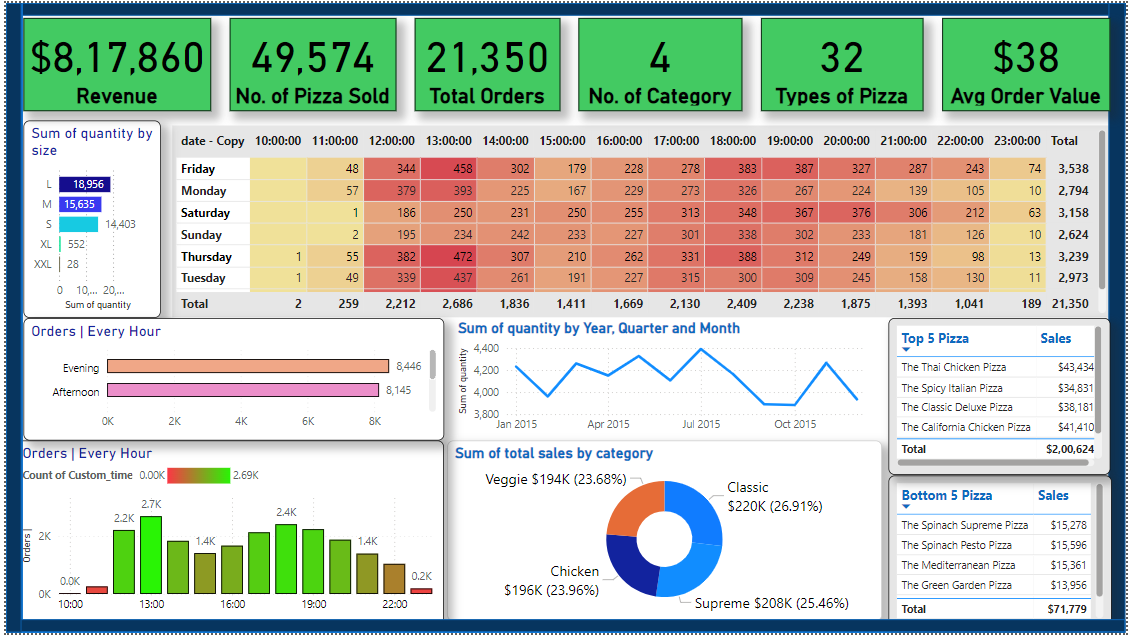

The dashboard page shown, as its layout file describes it:
{"tool":"powerbi","page":{"name":"Page 1","canvas":[1280,720],"ordinal":0},"visuals":[{"type":"lineChart","fields":{"Category":["orders.date.Variation.Date Hierarchy.Year","orders.date.Variation.Date Hierarchy.Quarter","orders.date.Variation.Date Hierarchy.Month"],"Y":["Sum(order_details.quantity)"]},"box":[511.3,361.3,490.3,138.7],"z":0},{"type":"card","fields":{"Values":["Sum(order_details.total sales)"]},"box":[19.4,17.7,214.5,106.5],"z":1000},{"type":"card","fields":{"Values":["order_details.total_orders"]},"box":[466.8,17.7,166.1,106.5],"z":2000},{"type":"card","fields":{"Values":["Sum(order_details.quantity)"]},"box":[255.2,17.7,190.3,106.5],"z":3000},{"type":"donutChart","fields":{"Y":["Sum(order_details.total sales)"],"Category":["pizza_type.category"]},"box":[504.8,500,496.8,206.5],"z":4000},{"type":"columnChart","title":"Orders | Every Hour","fields":{"Category":["orders.Custom_time"],"Y":["order_details.total_orders"]},"box":[9.7,500,490.3,219.4],"z":5000},{"type":"pivotTable","fields":{"Rows":["orders.date - Copy"],"Columns":["orders.Custom_time"],"Values":["order_details.total_orders"]},"box":[190.3,140.3,1072.6,219.4],"z":7000},{"type":"shape","box":[1.6,0,1279,14.5],"z":8000},{"type":"shape","box":[0,706.2,1279.2,14.6],"z":9000},{"type":"shape","box":[1260.6,0,19.4,719.4],"z":10000},{"type":"card","fields":{"Values":["Count(pizza_type.category)"]},"box":[654.2,17.7,187.1,106.5],"z":11000},{"type":"card","fields":{"Values":["Count(pizza_type.pizza_type_id)"]},"box":[862.6,17.7,185.5,106.5],"z":12000},{"type":"card","fields":{"Values":["order_details.Avg_order"]},"box":[1069.4,17.7,191.9,106.5],"z":13000},{"type":"shape","box":[0,0,19.4,719.4],"z":14000},{"type":"barChart","fields":{"Y":["Sum(order_details.quantity)"],"Category":["pizzas.size"]},"box":[19.4,133.9,156.5,225.8],"z":15000},{"type":"tableEx","fields":{"Values":["pizza_type.name","Sum(order_details.total sales)"]},"box":[1008.1,540.3,254.8,172.6],"z":16000},{"type":"tableEx","fields":{"Values":["pizza_type.name","Sum(order_details.total sales)"]},"box":[1008.1,359.7,253.2,179],"z":17000},{"type":"barChart","title":"Orders | Every Hour","fields":{"Category":["orders.Time of day"],"Y":["order_details.total_orders"]},"box":[19.4,359.7,480.6,140.3],"z":17001},{"type":"shape","box":[0,704.8,1279,14.5],"z":17002},{"type":"shape","box":[0,0,17.7,719.4],"z":17003}]}

Visuals, with their boxes in screenshot pixels (x1, y1, x2, y2), scaled from the page's 1280x720 canvas onto the 1130x636 screenshot:
lineChart - orders.date.Variation.Date Hierarchy.Year x orders.date.Variation.Date Hierarchy.Quarter: (451, 319, 884, 442)
card - Sum(order_details.total sales): (17, 16, 206, 110)
card - order_details.total_orders: (412, 16, 559, 110)
card - Sum(order_details.quantity): (225, 16, 393, 110)
donutChart - Sum(order_details.total sales) x pizza_type.category: (446, 442, 884, 624)
"Orders | Every Hour" columnChart: (9, 442, 441, 635)
pivotTable - orders.date - Copy x orders.Custom_time: (168, 124, 1115, 318)
shape: (1, 0, 1129, 13)
shape: (0, 624, 1129, 635)
shape: (1113, 0, 1129, 635)
card - Count(pizza_type.category): (578, 16, 743, 110)
card - Count(pizza_type.pizza_type_id): (762, 16, 925, 110)
card - order_details.Avg_order: (944, 16, 1113, 110)
shape: (0, 0, 17, 635)
barChart - Sum(order_details.quantity) x pizzas.size: (17, 118, 155, 318)
tableEx - pizza_type.name x Sum(order_details.total sales): (890, 477, 1115, 630)
tableEx - pizza_type.name x Sum(order_details.total sales): (890, 318, 1113, 476)
"Orders | Every Hour" barChart: (17, 318, 441, 442)
shape: (0, 623, 1129, 635)
shape: (0, 0, 16, 635)
